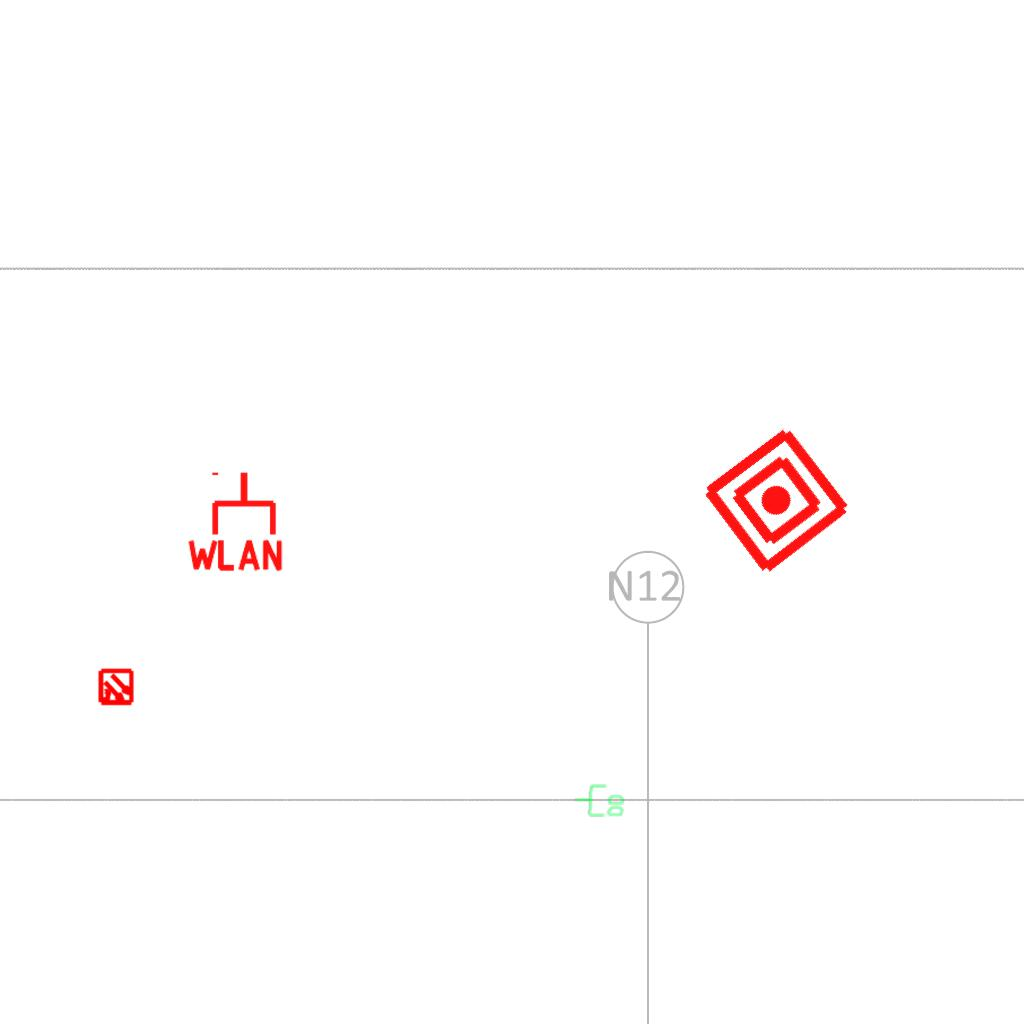Datenanschluss_zweifach: (573, 782, 626, 820)
NAM-Nichtautomatischer_Melder: (697, 421, 856, 580)
OT_Multisensormelder_(Kombination_RMO_WMD): (88, 660, 144, 716)
WLAN: (183, 468, 287, 573)
